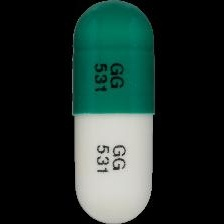0615-7808: (0, 0, 224, 224)
